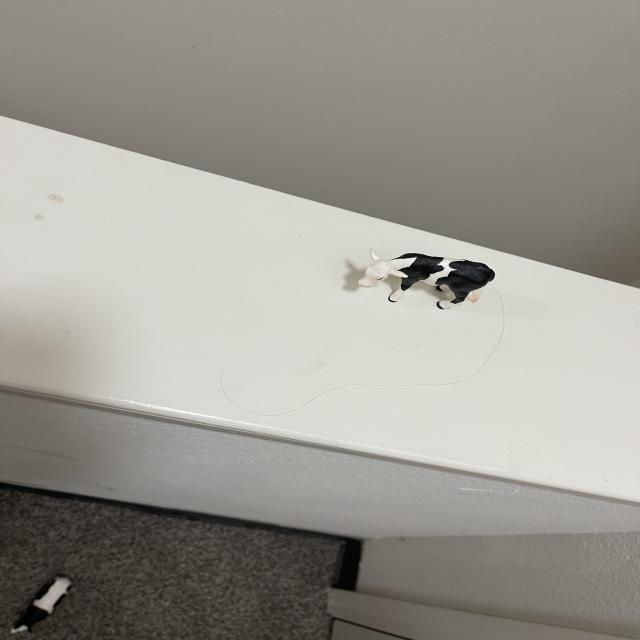cow: (357, 246, 496, 315)
